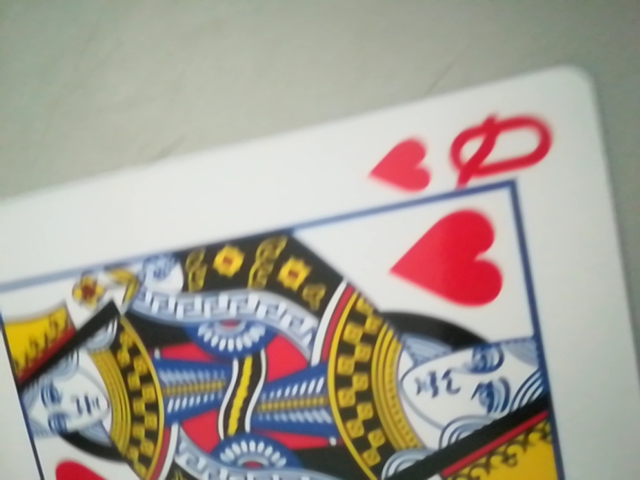hx q: (362, 105, 560, 201)
